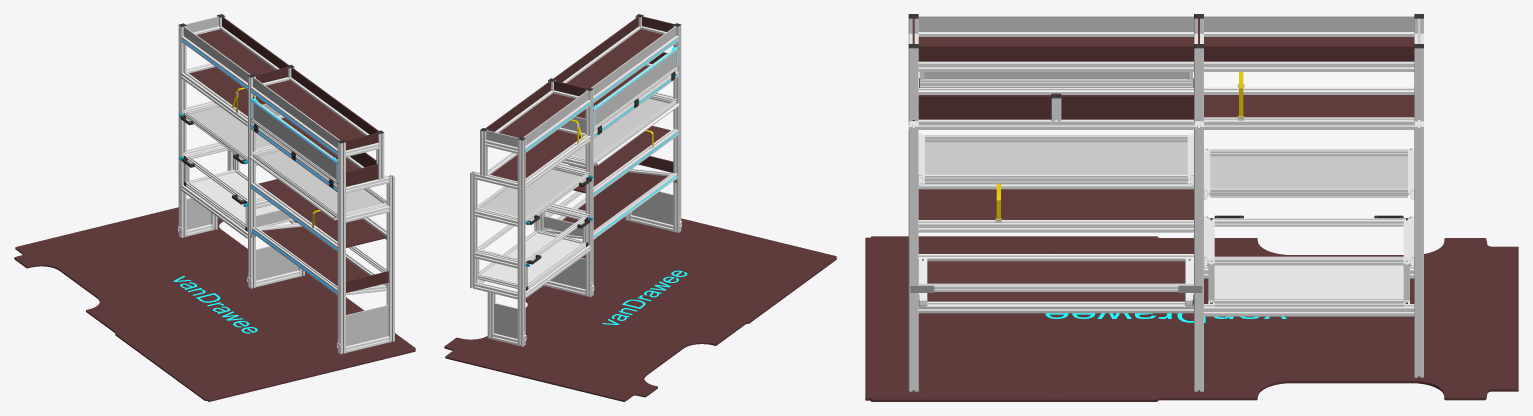
The model's file is vd_export_renault_master_l2h2_3682_mm_fdb91498.glb.
3 renders of one model, left to right at view 1: azimuth 30°, elevation 25°; view 2: azimuth 150°, elevation 25°; view 3: azimuth 270°, elevation 25°, orthographic. The views are drawn at different scales.
Visible parts, largest first — view 1: SomeName_Mesh_0043_2, 45x45x1700_noha (×3), PR10_1266x306 (×4), 45x45x1267_Zx2_2 (×5), CUB10_395x260 (×2), PR10_1208x388, PR10_1266x395, CUB6_1215x413, CUB10_1292x89 (×2), PR10_1292x89 (×2), CUB6_915x413, PR8_880x403 (+18 smaller); view 2: SomeName_Mesh_0043_2, 45x45x1700_noha (×3), PR10_1266x306 (×3), 45x45x1267_Zx2_2 (×5), PR10_1208x388, CUB6_915x413, PR8_880x403, CUB10_1292x89 (×2), CUB10_395x260 (×2), PR10_1292x89 (×2), CUB6_1215x413, PR10_1266x395 (+18 smaller); view 3: SomeName_Mesh_0043_2, 45x45x1267_Zx2 (×5), 45x45x1267_Zx2_2 (×6), PR10_1266x306 (×3), PR10_1208x388, PR10_1266x395, CUB6_1215x413, CUB10_1292x89 (×2), PR10_1292x89 (×2), CUB6_915x413, PR8_880x403, 45x45x1330_noha (×2) (+18 smaller).
Part boxes in pixels (x1=…): SomeName_Mesh_0043_2: x1=14, y1=207, x2=415, y2=401; 45x45x1700_noha (×3): x1=178, y1=25, x2=345, y2=354; PR10_1266x306 (×4): x1=189, y1=29, x2=364, y2=171; 45x45x1267_Zx2_2 (×5): x1=181, y1=36, x2=337, y2=251; CUB10_395x260 (×2): x1=256, y1=246, x2=388, y2=346; PR10_1208x388: x1=262, y1=226, x2=368, y2=285; PR10_1266x395: x1=258, y1=179, x2=386, y2=247; CUB6_1215x413: x1=260, y1=151, x2=382, y2=213; CUB10_1292x89 (×2): x1=183, y1=26, x2=339, y2=148; PR10_1292x89 (×2): x1=222, y1=17, x2=378, y2=134; CUB6_915x413: x1=190, y1=107, x2=271, y2=156; PR8_880x403: x1=191, y1=172, x2=279, y2=222; SomeName_Mesh_0043_2: x1=444, y1=217, x2=836, y2=401; 45x45x1700_noha (×3): x1=517, y1=25, x2=681, y2=346; PR10_1266x306 (×3): x1=490, y1=29, x2=662, y2=181; 45x45x1267_Zx2_2 (×5): x1=525, y1=35, x2=678, y2=196; PR10_1208x388: x1=562, y1=172, x2=667, y2=230; CUB6_915x413: x1=481, y1=169, x2=581, y2=217; PR8_880x403: x1=481, y1=233, x2=580, y2=283; CUB10_1292x89 (×2): x1=523, y1=26, x2=676, y2=145; CUB10_395x260 (×2): x1=550, y1=191, x2=673, y2=289; PR10_1292x89 (×2): x1=485, y1=17, x2=638, y2=131; CUB6_1215x413: x1=572, y1=98, x2=669, y2=158; PR10_1266x395: x1=569, y1=126, x2=670, y2=193; SomeName_Mesh_0043_2: x1=865, y1=236, x2=1518, y2=401; 45x45x1267_Zx2 (×5): x1=918, y1=61, x2=1414, y2=232; 45x45x1267_Zx2_2 (×6): x1=918, y1=32, x2=1414, y2=316; PR10_1266x306 (×3): x1=918, y1=37, x2=1414, y2=117; PR10_1208x388: x1=927, y1=261, x2=1185, y2=301; PR10_1266x395: x1=918, y1=189, x2=1193, y2=219; CUB6_1215x413: x1=924, y1=142, x2=1188, y2=180; CUB10_1292x89 (×2): x1=918, y1=16, x2=1414, y2=31; PR10_1292x89 (×2): x1=918, y1=46, x2=1414, y2=61; CUB6_915x413: x1=1209, y1=156, x2=1408, y2=194; PR8_880x403: x1=1213, y1=265, x2=1404, y2=302; 45x45x1330_noha (×2): x1=908, y1=127, x2=1203, y2=391.
Size of the model in its own units: 1777 by 1719 by 3004.
